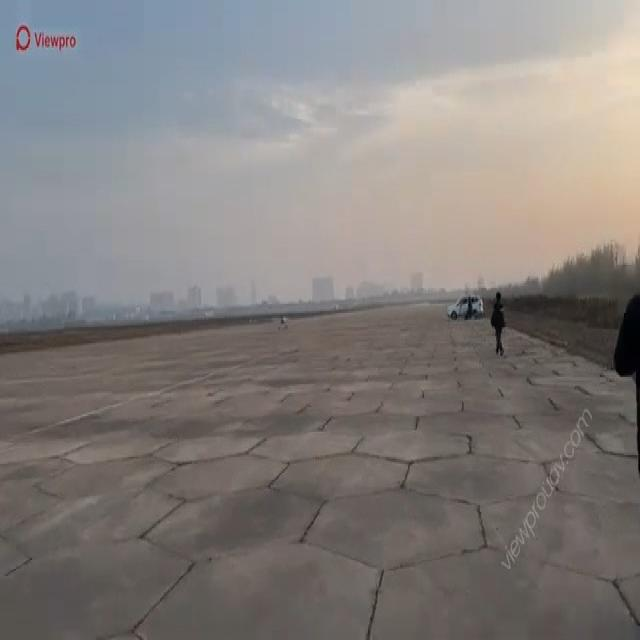drones: (270, 308, 296, 334)
